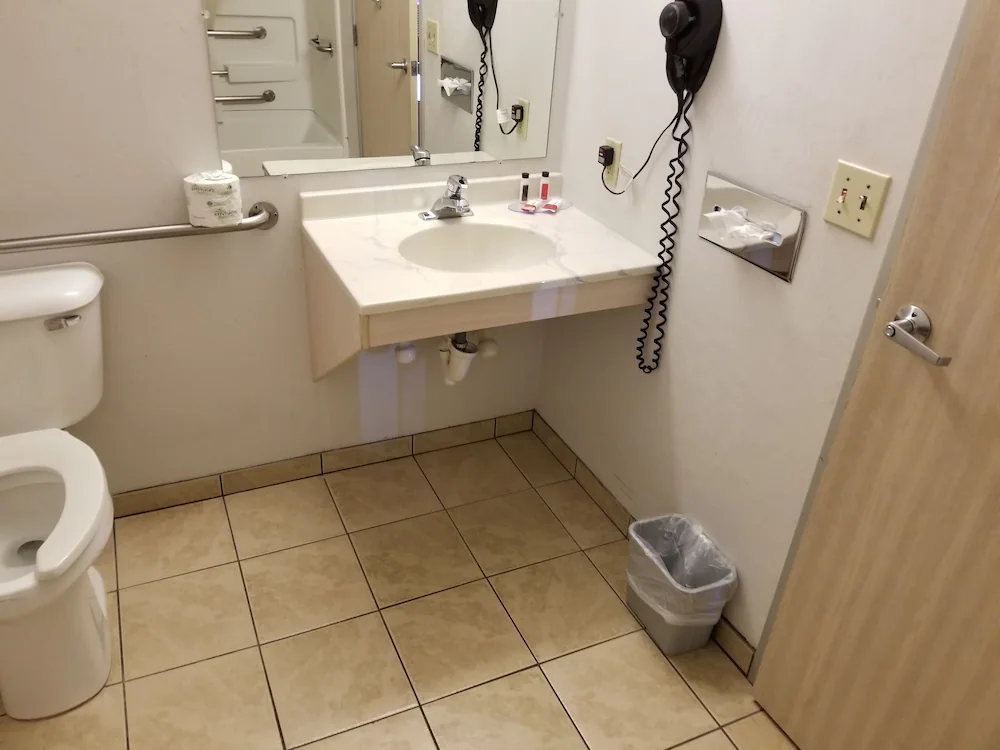counter: (287, 179, 654, 394)
countertop: (298, 203, 655, 301)
dispenser: (699, 171, 804, 280)
door_handle: (884, 299, 952, 372), (383, 47, 416, 96)
faucet: (418, 173, 474, 220)
light_switch: (824, 164, 886, 239)
restroom_assist_bar: (1, 201, 278, 253), (205, 88, 278, 117), (197, 21, 270, 50), (309, 32, 338, 69)
sink: (379, 219, 569, 281)
toilet: (1, 261, 120, 721)
toilet_handle: (41, 312, 83, 335)
waste_bin: (629, 516, 744, 657)
